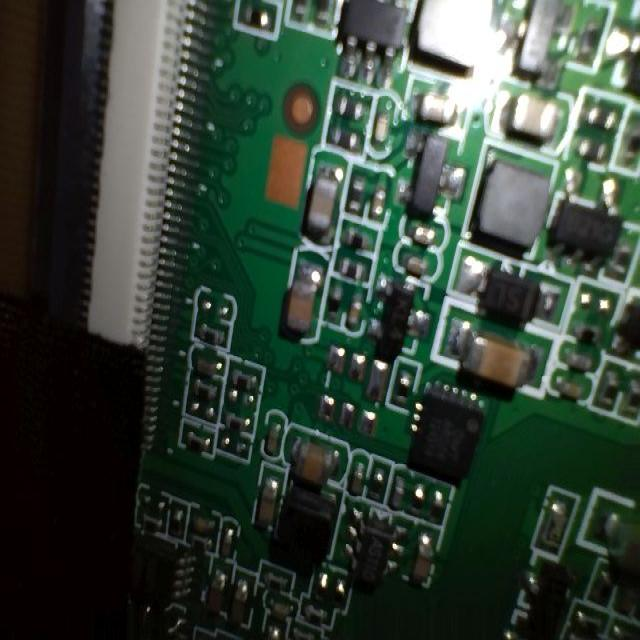capacitor: (466, 332, 531, 391), (502, 95, 561, 143), (289, 256, 316, 351), (306, 159, 338, 236), (416, 88, 477, 125), (294, 435, 335, 488), (408, 532, 439, 598), (258, 468, 278, 552), (404, 250, 433, 285), (348, 458, 371, 502), (208, 564, 226, 620), (373, 95, 389, 157), (266, 404, 284, 459), (348, 292, 366, 340), (185, 515, 212, 546), (371, 180, 386, 228), (407, 223, 437, 243), (558, 384, 583, 404)
resistor: (392, 356, 418, 422), (240, 4, 282, 40), (599, 363, 619, 416), (182, 427, 214, 458), (370, 463, 394, 498), (194, 330, 232, 350), (626, 372, 640, 424), (230, 368, 256, 394), (623, 131, 640, 170), (575, 322, 604, 344), (414, 484, 431, 519), (192, 382, 220, 402), (350, 179, 364, 218), (223, 418, 250, 438), (170, 511, 187, 542)
